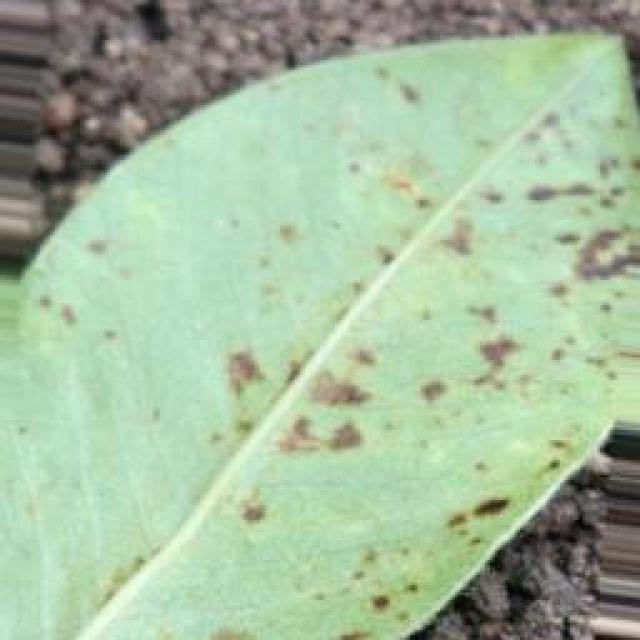Whitefly: (0, 6, 640, 618)
